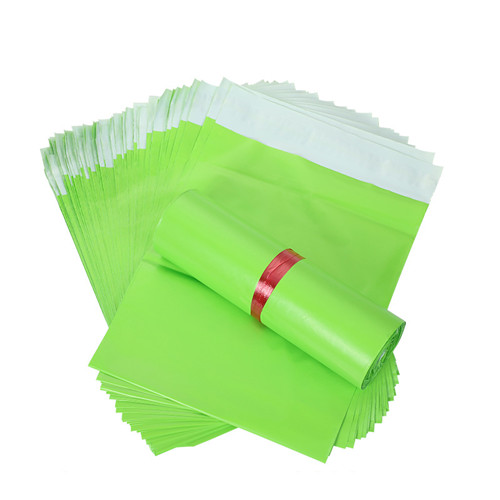塑料袋: (41, 81, 438, 462)
